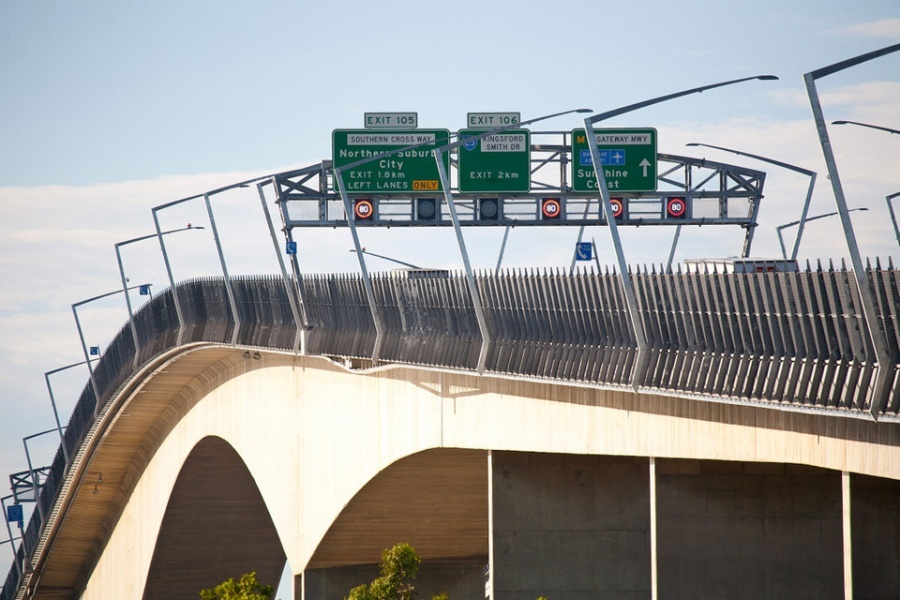text: (577, 169, 592, 180), (385, 160, 400, 171), (498, 115, 512, 126), (353, 135, 368, 145), (369, 135, 384, 145), (353, 149, 368, 159), (369, 149, 384, 159), (385, 149, 400, 159), (401, 149, 416, 159), (417, 149, 432, 159), (353, 170, 368, 180), (385, 170, 400, 180), (497, 171, 512, 181), (609, 169, 624, 179), (369, 116, 384, 125), (481, 116, 496, 125), (609, 136, 624, 145), (417, 136, 432, 145), (353, 181, 368, 190), (385, 181, 400, 190), (417, 181, 432, 190), (339, 149, 352, 159), (481, 171, 494, 181), (546, 204, 560, 213), (401, 116, 415, 125), (401, 135, 415, 144), (611, 203, 624, 212), (609, 180, 620, 190), (596, 136, 608, 145), (497, 136, 512, 143), (470, 171, 480, 181), (513, 136, 526, 143), (497, 144, 510, 151), (470, 116, 480, 125), (631, 134, 640, 144), (577, 135, 586, 145), (359, 205, 368, 214), (391, 135, 400, 144), (641, 134, 649, 144), (593, 180, 601, 190), (376, 181, 384, 190), (401, 181, 409, 190), (599, 151, 608, 159), (673, 204, 683, 211), (486, 144, 496, 151), (377, 170, 384, 180), (513, 171, 520, 181), (593, 169, 599, 180), (385, 116, 392, 125), (487, 136, 496, 143), (513, 144, 522, 151), (583, 151, 592, 158), (433, 149, 439, 159), (586, 180, 592, 190), (513, 115, 518, 126), (379, 160, 384, 171), (401, 160, 406, 171), (346, 181, 352, 190), (385, 135, 390, 145), (369, 170, 374, 180), (401, 170, 406, 180), (625, 169, 630, 179), (625, 136, 630, 145), (433, 181, 438, 190), (585, 158, 592, 164), (601, 158, 608, 164), (369, 181, 373, 190), (349, 170, 352, 180), (605, 169, 608, 179), (397, 116, 400, 125), (350, 135, 352, 145), (369, 205, 371, 214), (433, 136, 435, 145), (414, 181, 416, 190), (607, 180, 608, 190), (511, 144, 512, 151)
